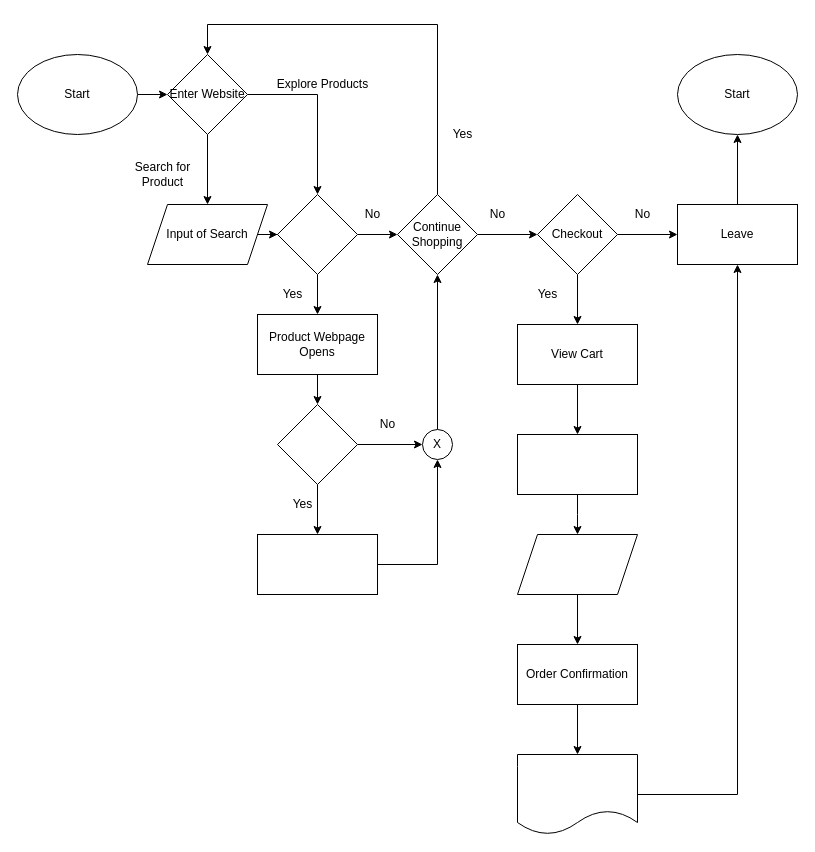
Some shapes in this 815 by 852 pixel diagram are drawn without their labels. The shapes that lost their labels are listed below. From the top down, each one's centre as x and y in pixels, then its label:
(x=317, y=234): View Specific Product
(x=317, y=444): Add to Cart
(x=577, y=464): View Payment
(x=317, y=564): Add to Cart Confirmation
(x=577, y=564): Input Payment Info
(x=577, y=794): Email User on Order
